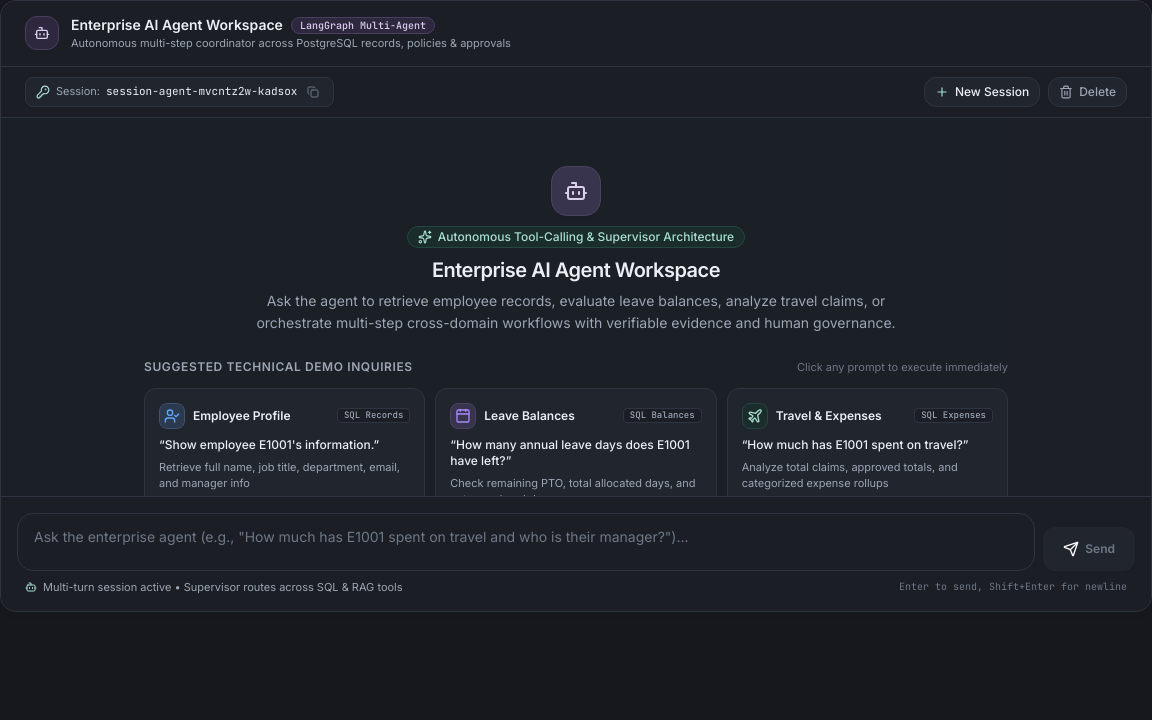
Test: AgentChatWorkspace › clears session history on backend and frontend
Type "Query 1" into the text box with placeholder "Ask the enterprise agent". click: x=526, y=538
box: [18,514,1034,564]
Then press Enter
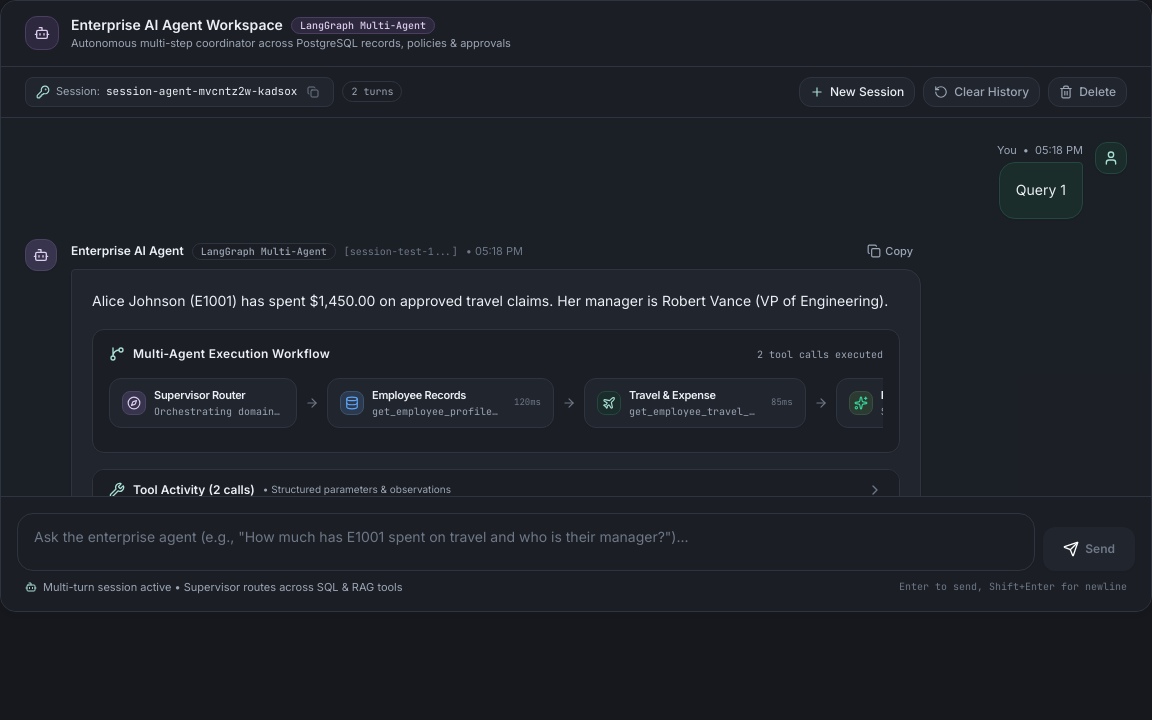
Expected: the button "Clear History" is shown
Click twice for confirmation
Click the button "Clear History". click: x=982, y=92
box: [923,76,1040,106]
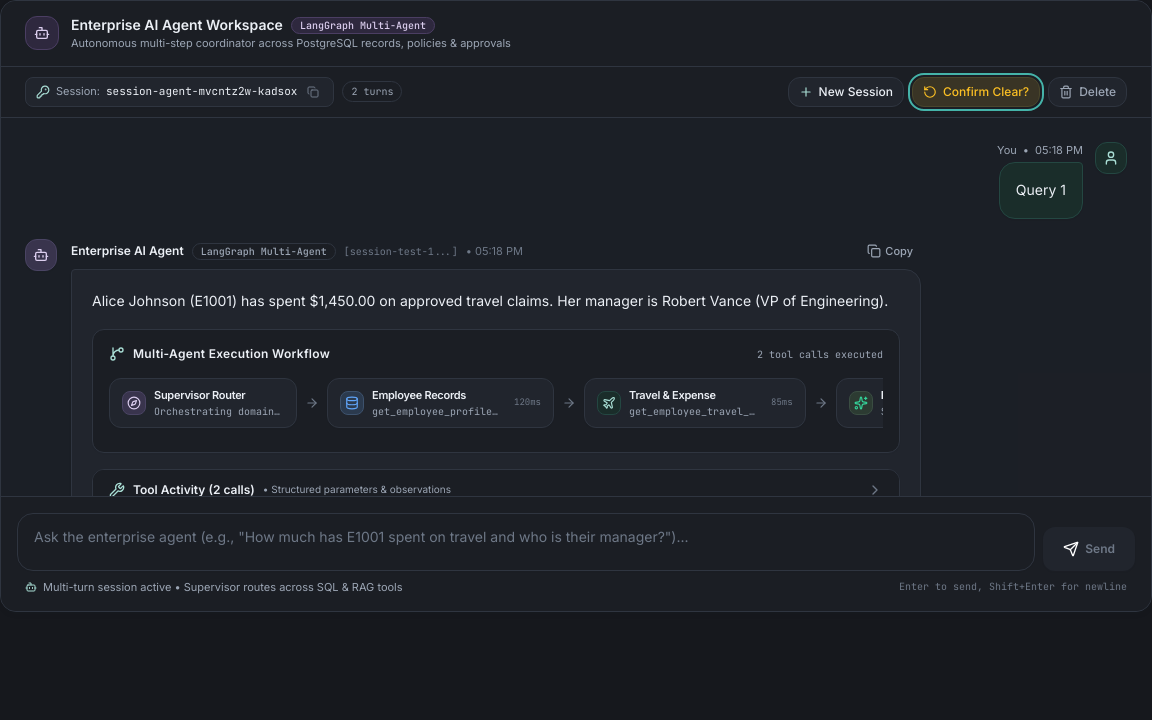
Click the button "Confirm Clear?". click: x=976, y=92
box: [912,76,1040,106]
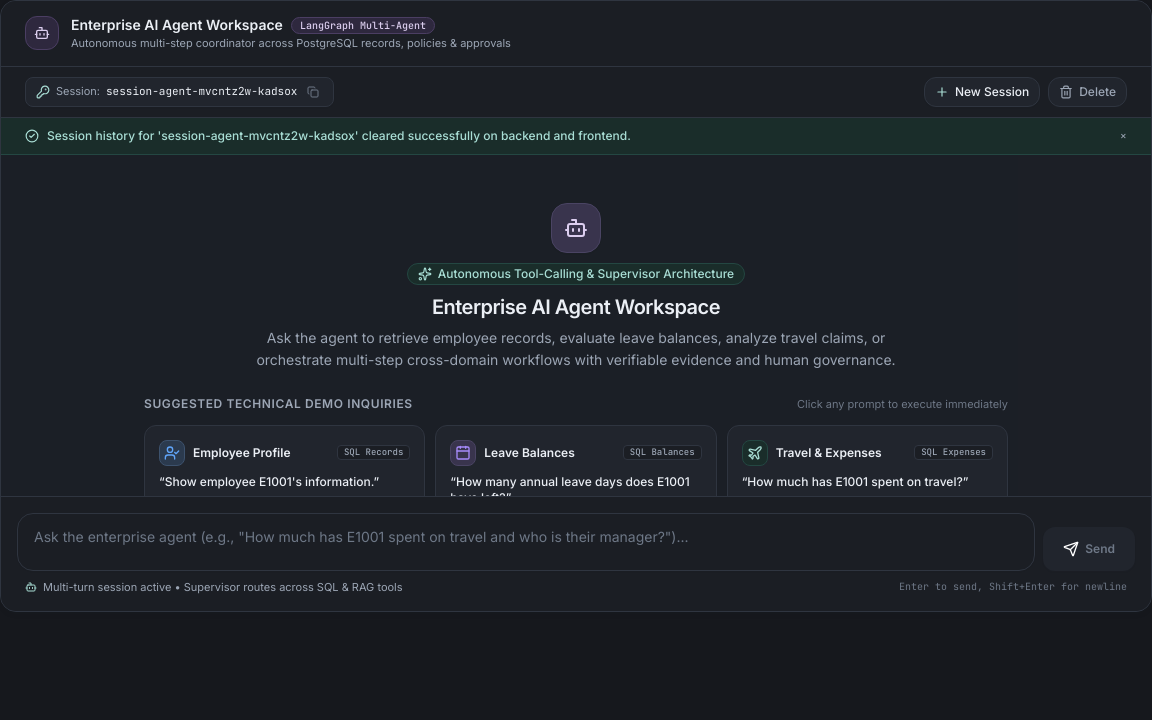
Expected: the text "cleared successfully on backend and frontend" is shown, [47,128,631,142]
